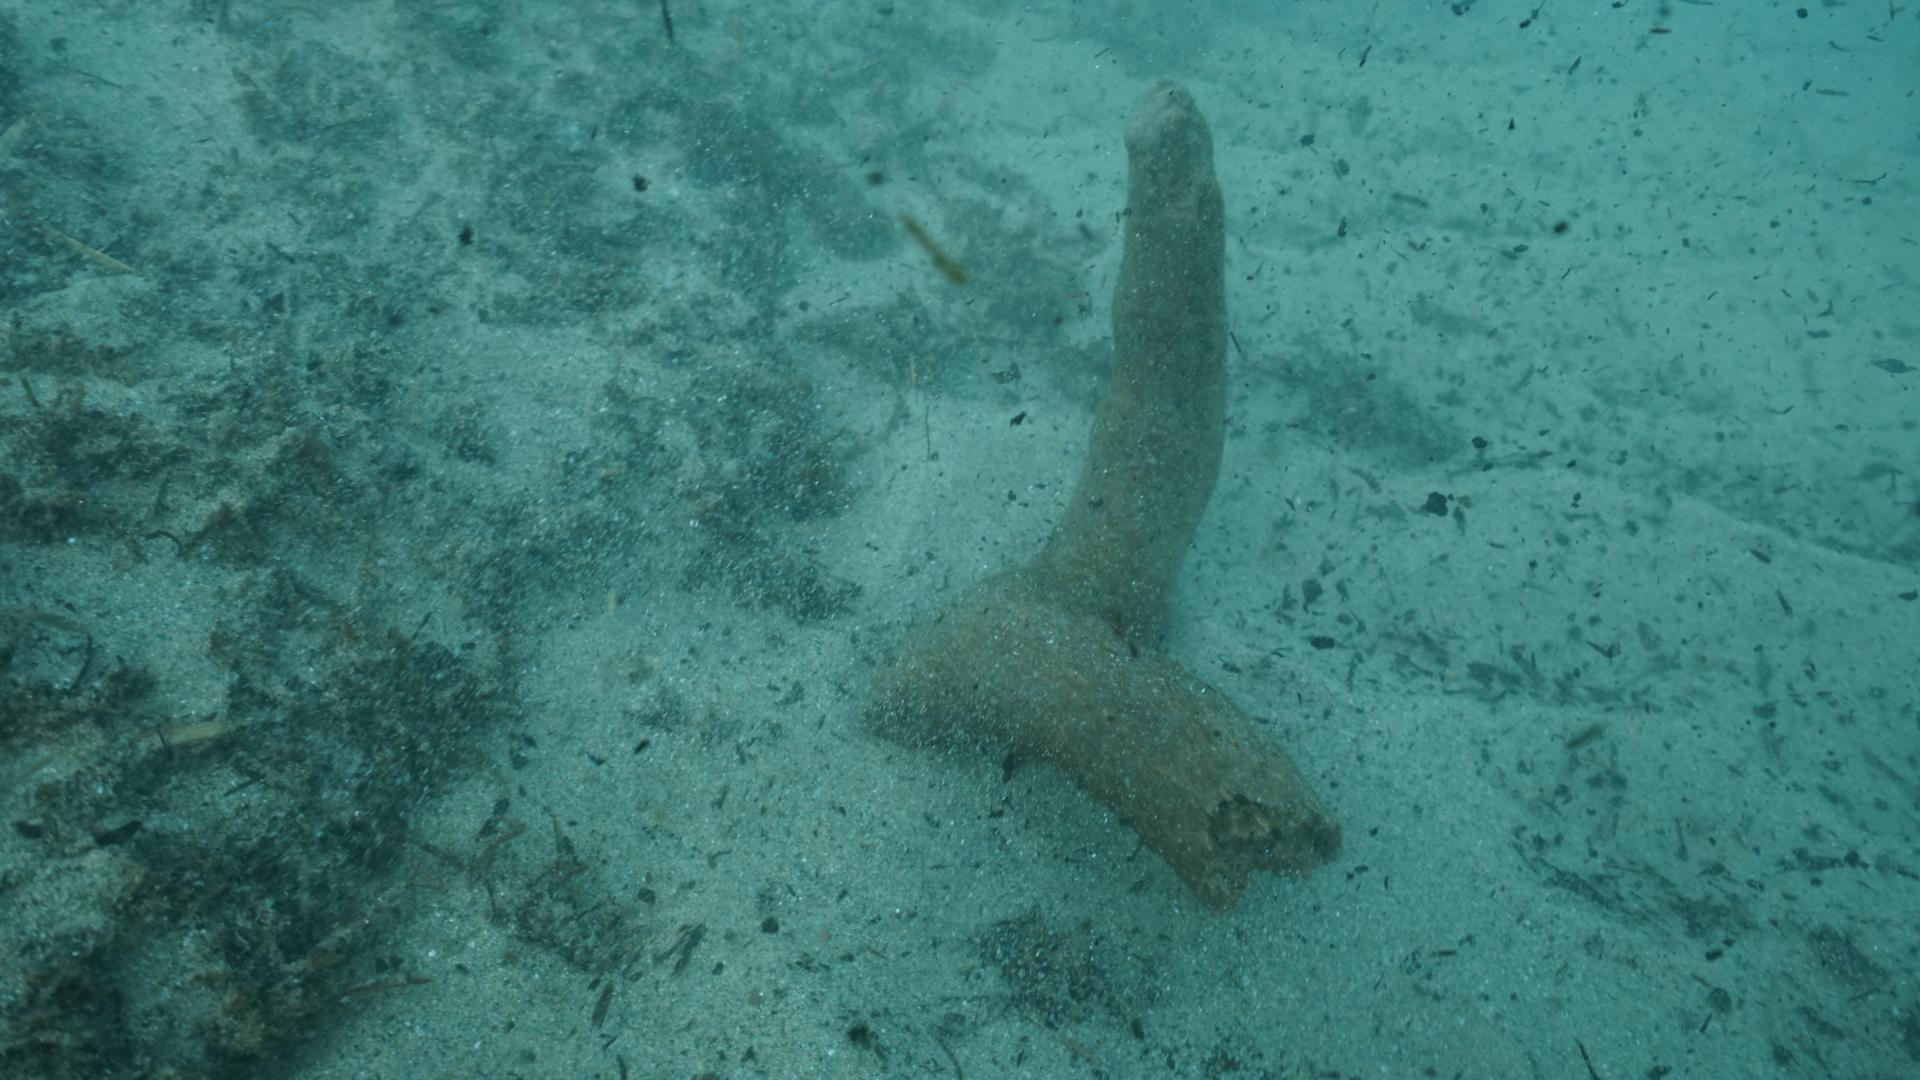wood: (865, 80, 1349, 909)
